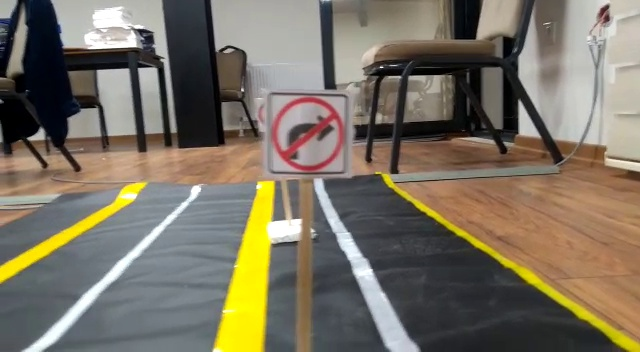saga_donulmez: (268, 95, 351, 173)
